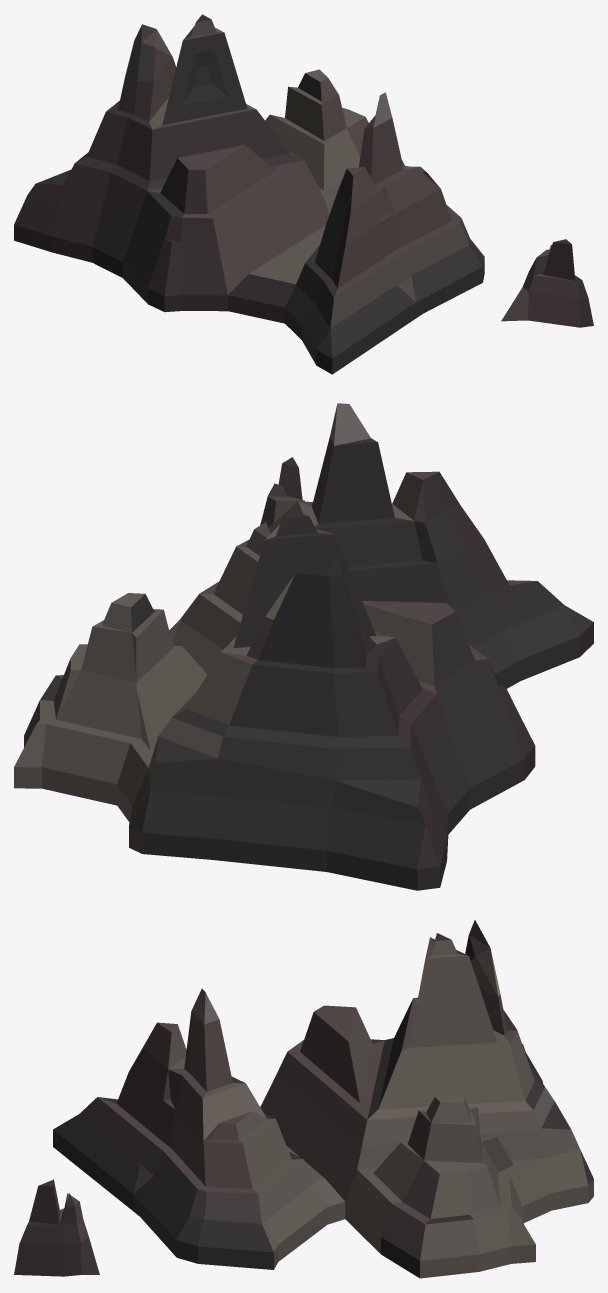
File: Island 3.fbx
3 views of the same model, one above another, from view 1: azimuth 30°, elevation 25°; view 2: azimuth 150°, elevation 25°; view 3: azimuth 270°, elevation 25° (orthographic). The views are drawn at different scales.
Visible parts, largest first — view 1: Rock 3; view 2: Rock 3; view 3: Rock 3.
Boxes of the visible parts, x1,y1,x2,y2 form: Rock 3: (14,14,593,374); Rock 3: (14,403,593,890); Rock 3: (14,920,593,1278).
Size of the model in its own units: 4275 by 2514 by 5625.
